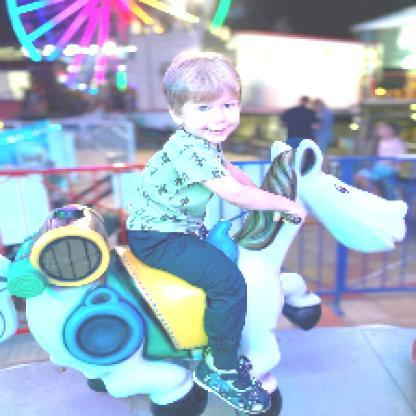child: (124, 55, 308, 416)
